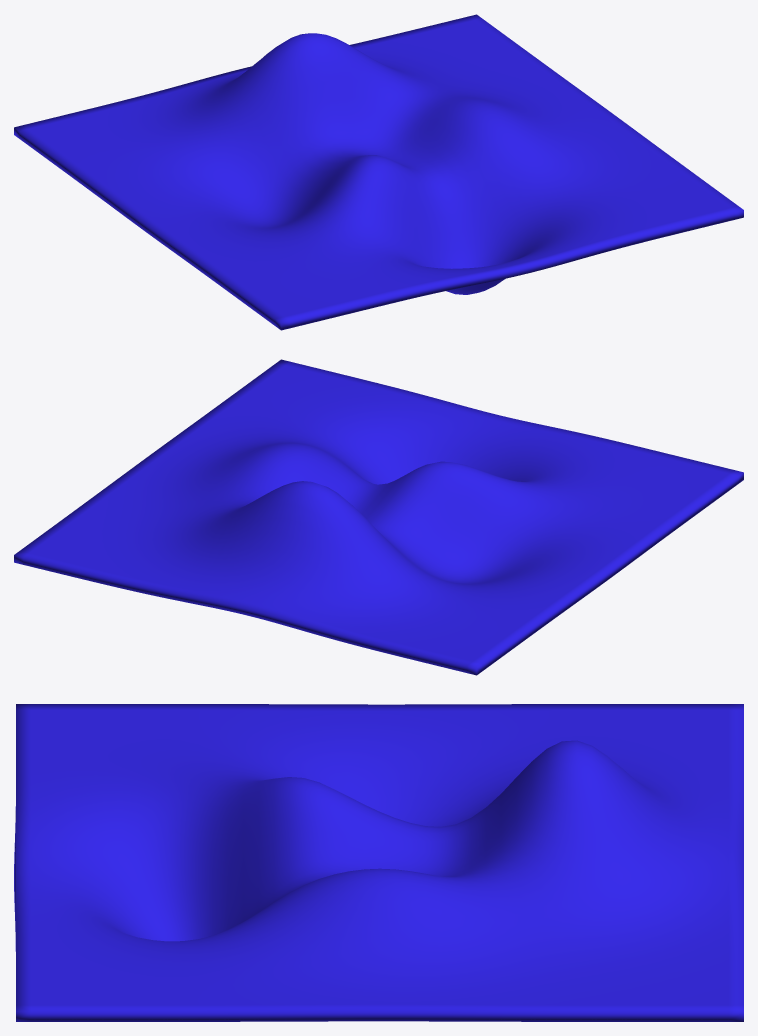
The picture shows the model from 3 angles, top to bottom: view 1: azimuth 30°, elevation 25°; view 2: azimuth 150°, elevation 25°; view 3: azimuth 270°, elevation 25°; orthographic projection. The views are drawn at different scales.
Visible parts, largest first — view 1: Test; view 2: Test; view 3: Test.
Part boxes in pixels (x1,y1,x2,y2): Test: [14, 14, 743, 330]; Test: [14, 359, 743, 675]; Test: [14, 704, 743, 1021].
Size of the model in its own units: 48.02 by 15.37 by 48.13.
